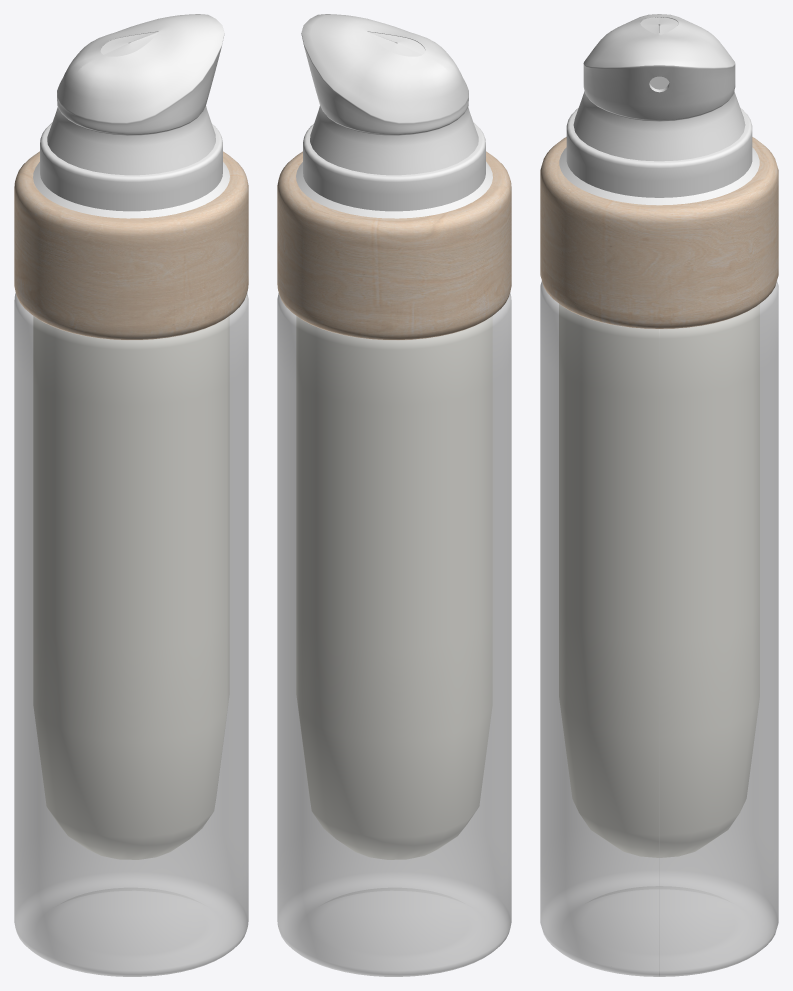
Rendered from product3.gltf.
3 renders of one model, left to right at view 1: azimuth 30°, elevation 25°; view 2: azimuth 150°, elevation 25°; view 3: azimuth 270°, elevation 25°, orthographic.
Visible parts, largest first — view 1: product3-verre, product3-product_inside, product3-cream, product3-bois; view 2: product3-verre, product3-product_inside, product3-cream, product3-bois; view 3: product3-verre, product3-product_inside, product3-bois, product3-cream.
Part boxes in pixels (x1,y1,x2,y2): product3-verre: (14, 293, 248, 976); product3-product_inside: (33, 316, 229, 859); product3-cream: (33, 14, 229, 218); product3-bois: (14, 151, 248, 340); product3-verre: (277, 293, 511, 976); product3-product_inside: (296, 316, 492, 859); product3-cream: (296, 14, 492, 218); product3-bois: (277, 151, 511, 340); product3-verre: (540, 281, 778, 976); product3-product_inside: (559, 304, 759, 857); product3-bois: (540, 137, 778, 329); product3-cream: (559, 14, 759, 205).
Size of the model in its own units: 0.64 by 2.7 by 0.6387.
Materials: 4 (1 with a texture image).
